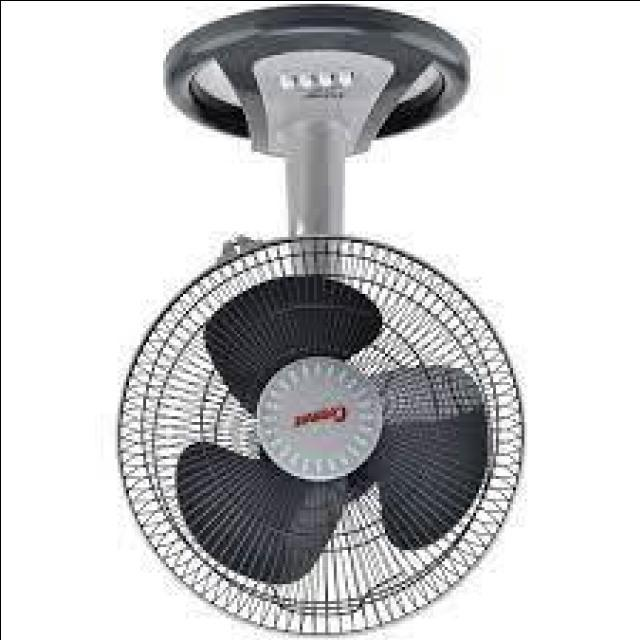fan: (113, 11, 540, 640)
